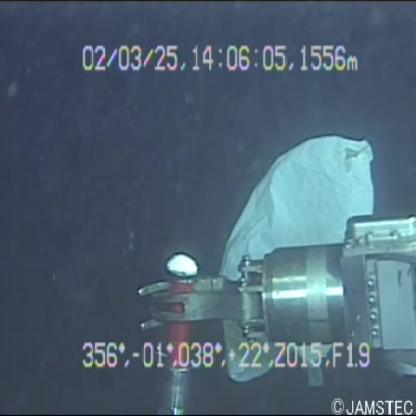Rov: (115, 186, 415, 392)
Rác: (215, 106, 380, 289)
